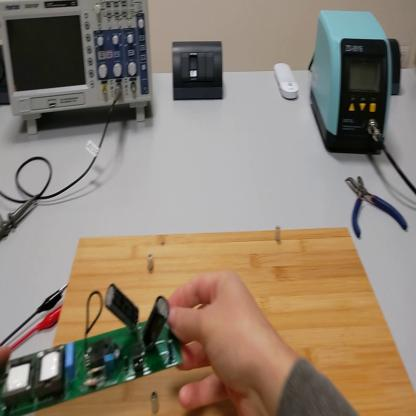hand: (167, 267, 273, 415), (2, 343, 12, 379)
high voltage board: (2, 285, 184, 414)
oscilloscope: (2, 1, 154, 132)
oscilloscope probe tip: (2, 195, 40, 243)
pliers: (345, 173, 409, 241)
socket: (387, 39, 404, 97), (1, 47, 12, 104)
welder station: (309, 12, 395, 159)
working area: (35, 230, 416, 416)
